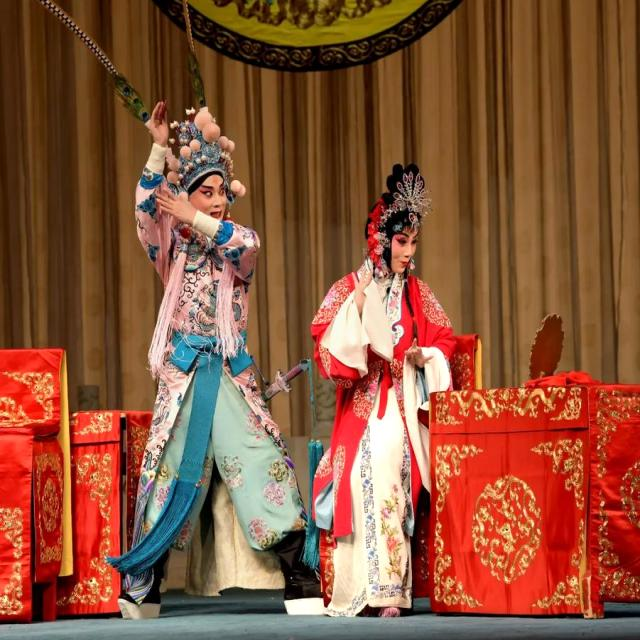Reeves-s Pheasant: (40, 0, 149, 122), (190, 38, 203, 102)
